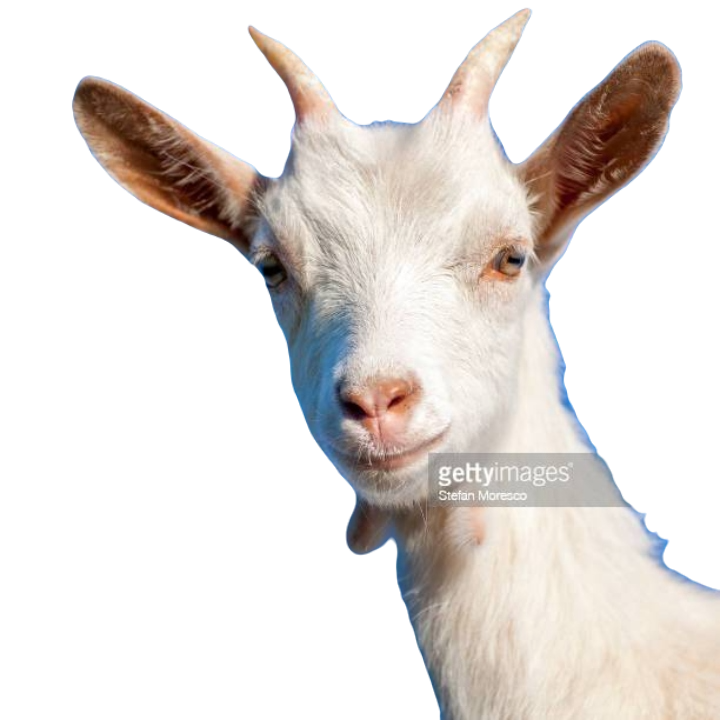Goat: (66, 9, 719, 719)
